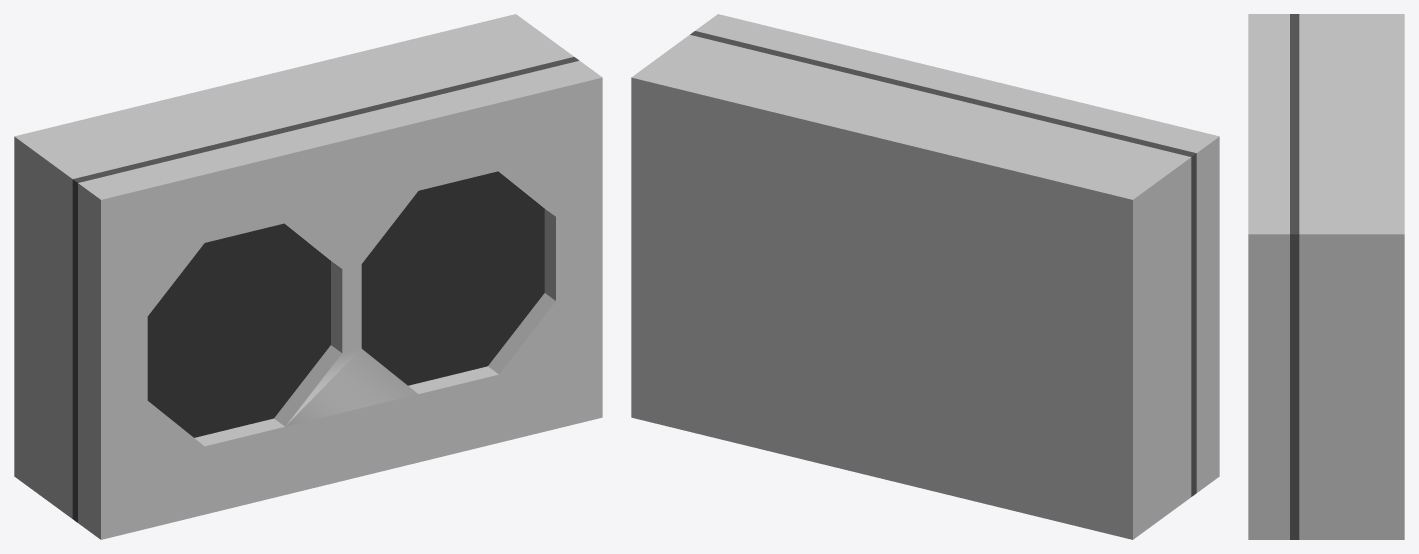
File: HousePart_02.fbx
3 renders of one model, left to right at view 1: azimuth 30°, elevation 25°; view 2: azimuth 150°, elevation 25°; view 3: azimuth 270°, elevation 25°, orthographic. The views are drawn at different scales.
Parts seen in each view (by area): view 1: HousePart_02; view 2: HousePart_02; view 3: HousePart_02.
Part boxes in pixels (x1=…): HousePart_02: x1=14, y1=14, x2=602, y2=539; HousePart_02: x1=631, y1=14, x2=1219, y2=539; HousePart_02: x1=1248, y1=14, x2=1404, y2=539.
Bounding box in the file's own units: 108 × 70.09 × 32.43.
